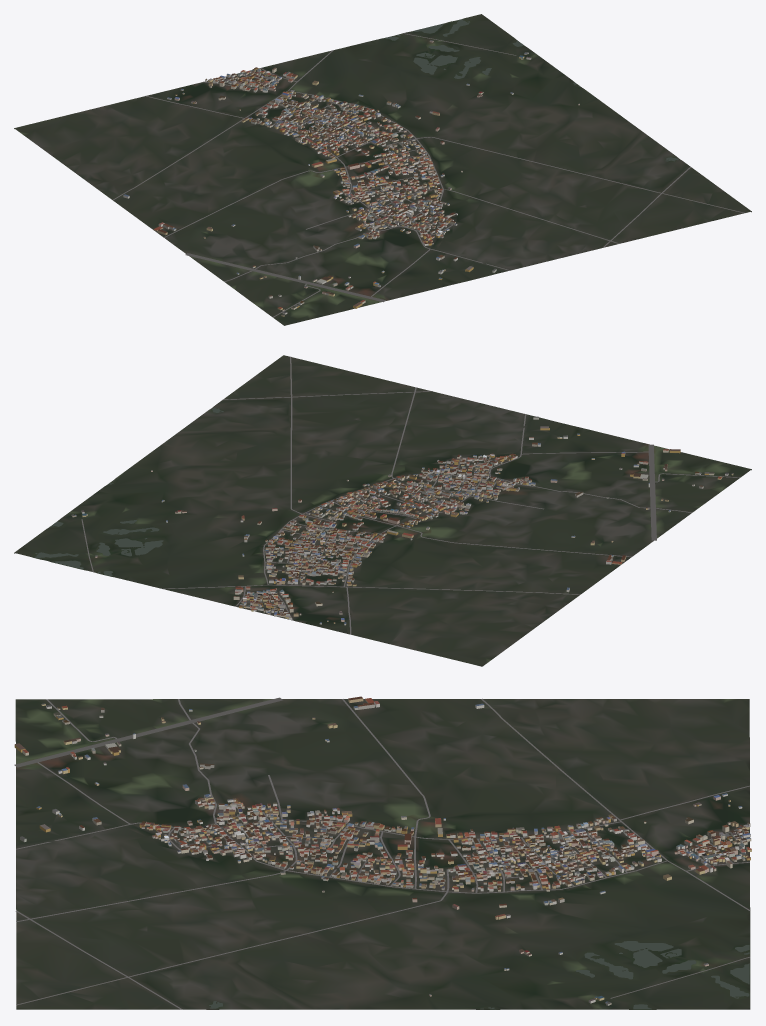
3 views of the same model, one above another, from view 1: azimuth 30°, elevation 25°; view 2: azimuth 150°, elevation 25°; view 3: azimuth 270°, elevation 25° (orthographic). The views are drawn at different scales.
Parts seen in each view (by area): view 1: ground, buildings, roads, water; view 2: ground, buildings, roads, water; view 3: ground, buildings, roads, water.
Boxes of the visible parts, x1,y1,x2,y2 form: ground: [14, 14, 751, 325]; buildings: [123, 40, 579, 316]; roads: [112, 33, 744, 317]; water: [385, 19, 678, 161]; ground: [14, 355, 751, 666]; buildings: [71, 416, 733, 625]; roads: [81, 356, 740, 634]; water: [34, 407, 223, 576]; ground: [15, 699, 750, 1009]; buildings: [14, 696, 751, 1005]; roads: [14, 697, 750, 1009]; water: [209, 941, 749, 1009].
Size of the model in its own units: 1410 by 14.55 by 1409.
